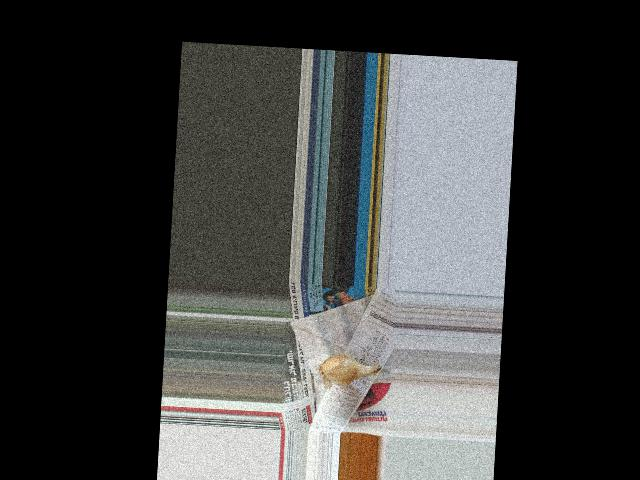onion: (323, 353, 366, 383)
